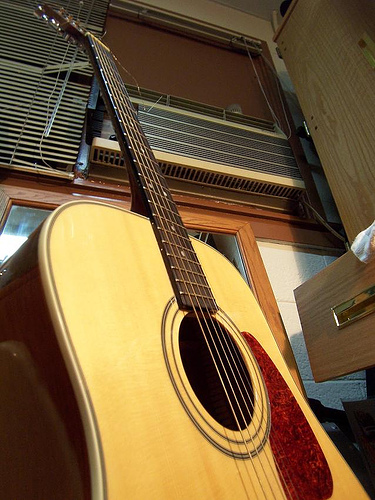guitar: (1, 1, 373, 500)
